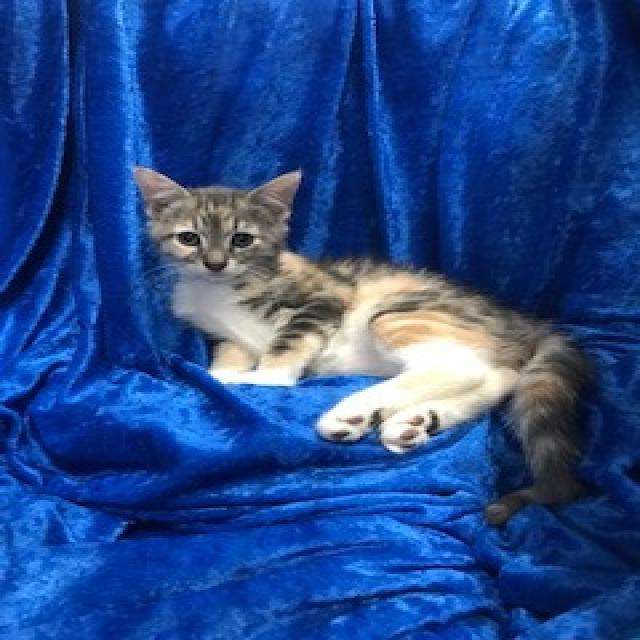maine_coon_cat: (121, 153, 323, 296)
